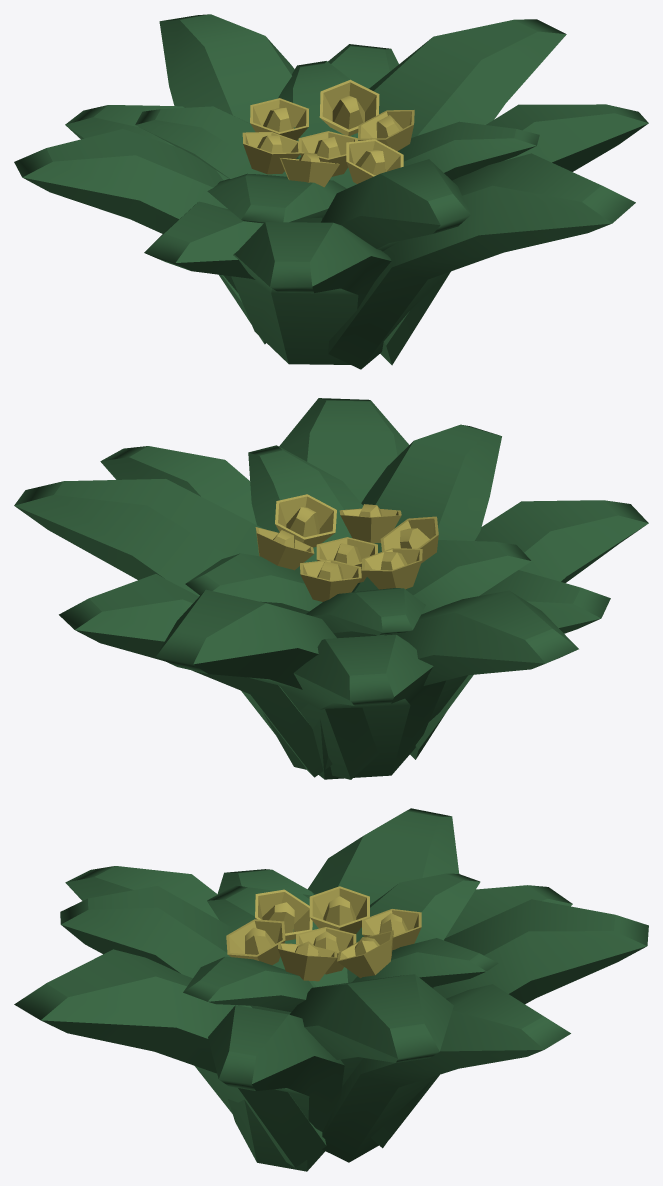
The model's file is moita_florida.fbx.
The picture shows the model from 3 angles, top to bottom: view 1: azimuth 30°, elevation 25°; view 2: azimuth 150°, elevation 25°; view 3: azimuth 270°, elevation 25°; orthographic projection. The views are drawn at different scales.
Visible parts, largest first — view 1: moita_florida; view 2: moita_florida; view 3: moita_florida.
Boxes of the visible parts, <box> form: moita_florida: <box>14,14,648,369</box>; moita_florida: <box>14,398,648,779</box>; moita_florida: <box>14,808,648,1171</box>.
Size of the model in its own units: 4.3 by 1.9 by 4.31.
